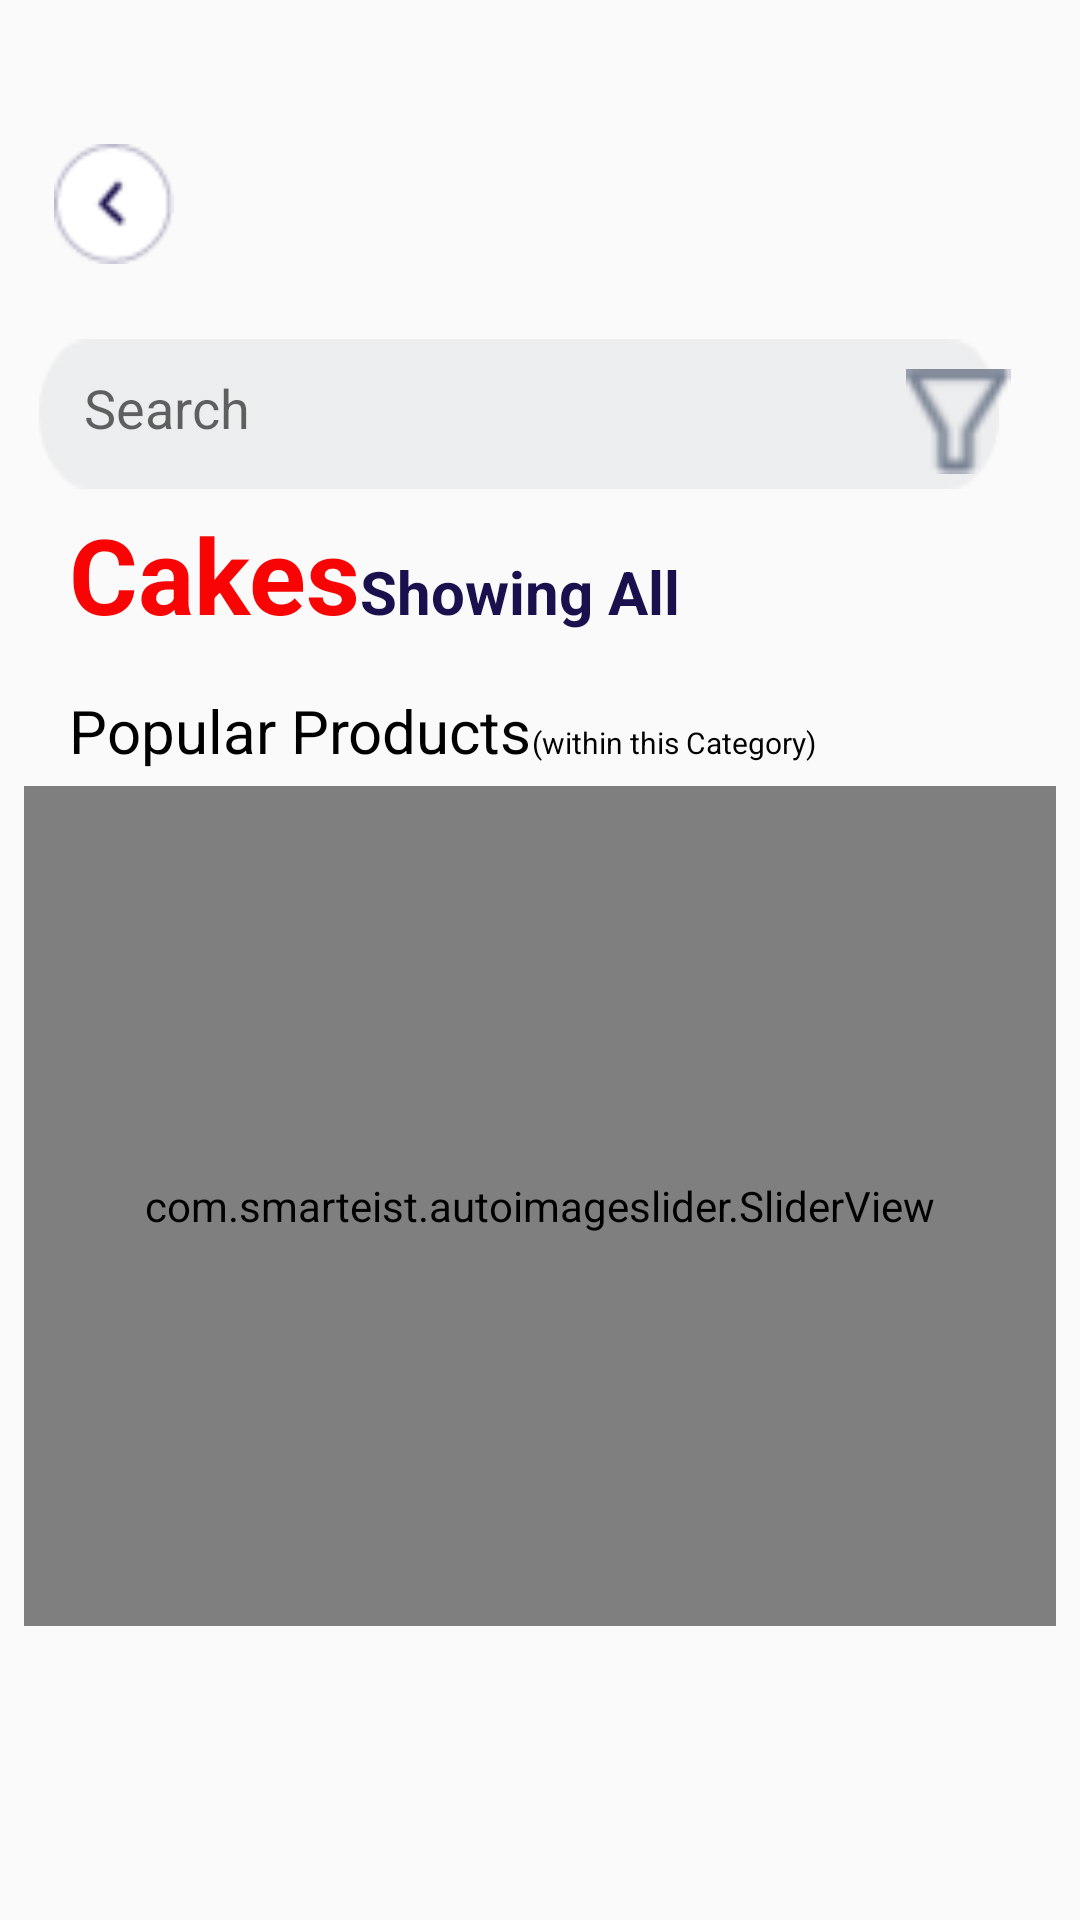

Screen size 1080w x 1920h. Icon name, then its center in pixels as (x,y):
back left: (112,204)
filter: (958,421)
